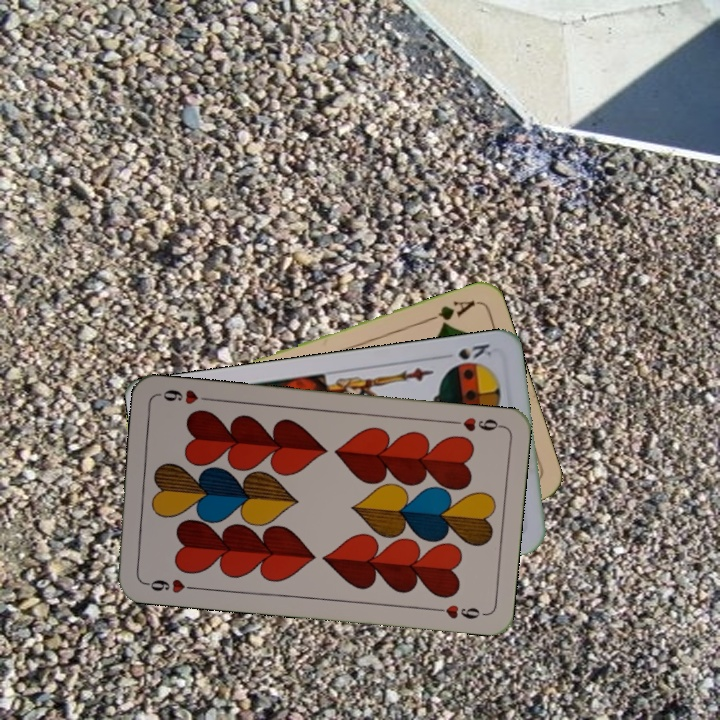GA: (421, 296, 478, 330)
H9: (446, 413, 505, 435), (139, 575, 198, 596)
SK: (446, 339, 494, 370)
